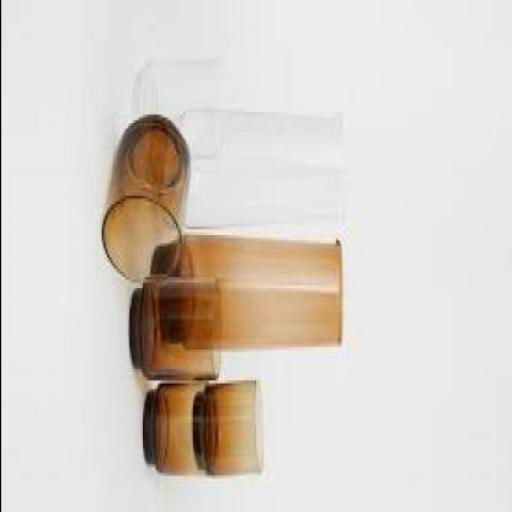glass: (152, 233, 344, 347), (184, 103, 346, 224), (104, 112, 190, 279), (130, 272, 222, 380), (136, 55, 222, 154), (194, 375, 263, 473), (142, 377, 210, 476)
